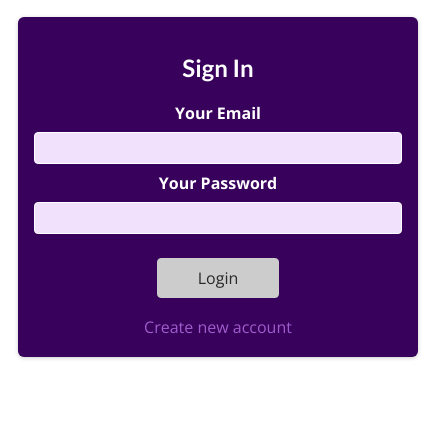
Scenario: Login page › Sign In form › renders password error if password lenght is not equal or greater than 5 chars
Step 1. Type "1234" into the password field named "password-input" → {"x": 218, "y": 218}, box [34,202,402,234]
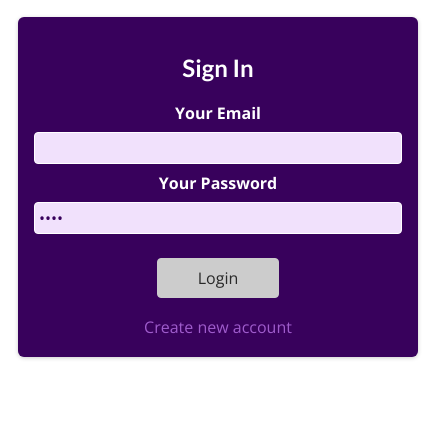
Step 2. Leave the password field named "password-input", box [34,202,402,234]
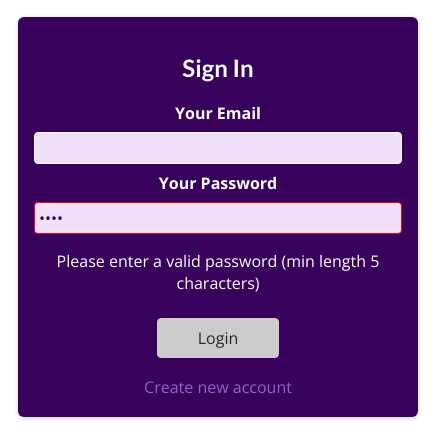
Result: the text "Please enter a valid password (min length 5 characters)" is shown at [34,250,402,294]
